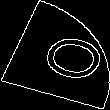O_W: (14, 25, 96, 85)
